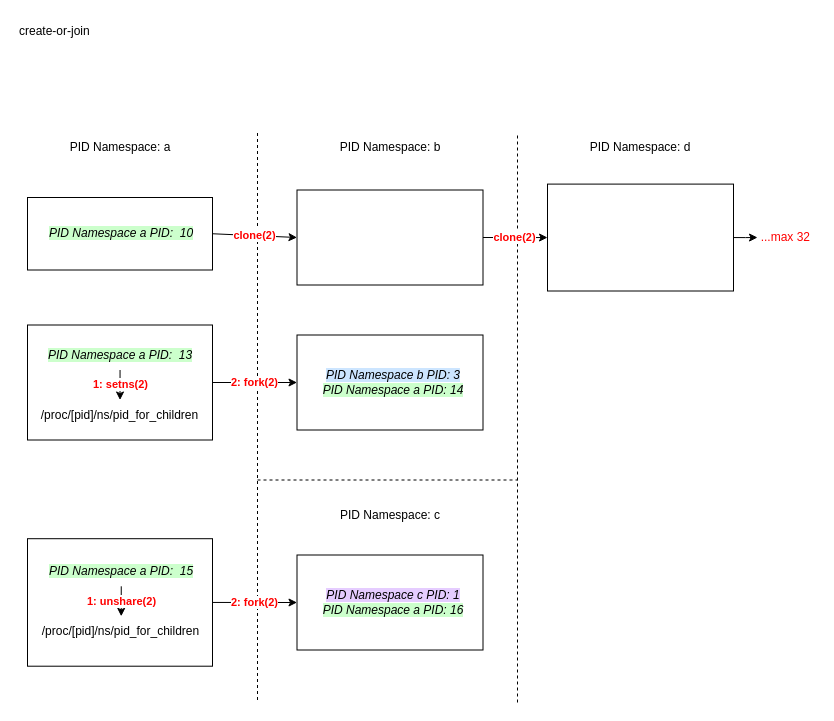
Image size: 834x721. Some labels were removed from this diagram. Each missing label, with the box of its shape:
PID Namespace b PID: 1 PID Namespace a PID: 11: (296, 189, 483, 285)
PID Namespace d PID: 1 PID Namespace b PID: 2 PID Namespace a PID: 12: (546, 183, 734, 291)
